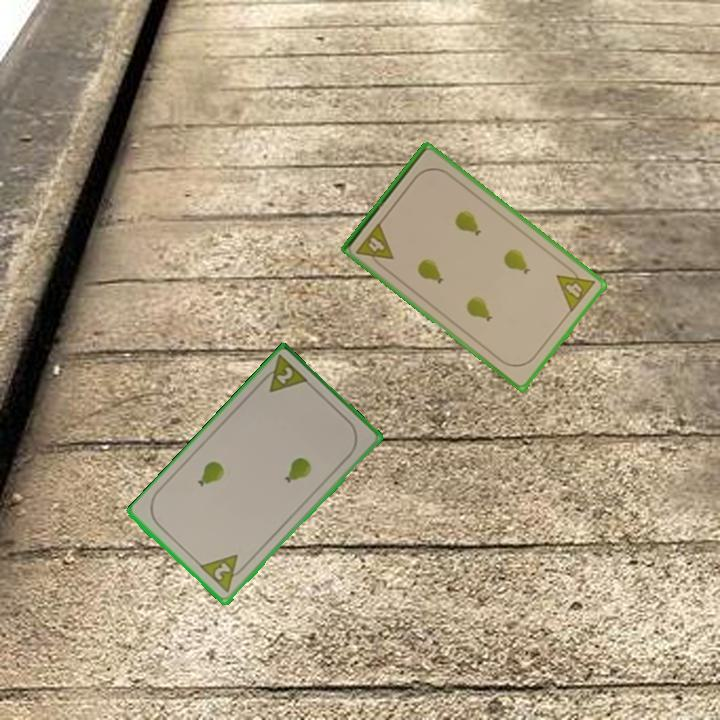2p: (255, 352, 312, 396), (197, 551, 250, 597)
4p: (553, 261, 598, 315), (353, 218, 397, 272)
